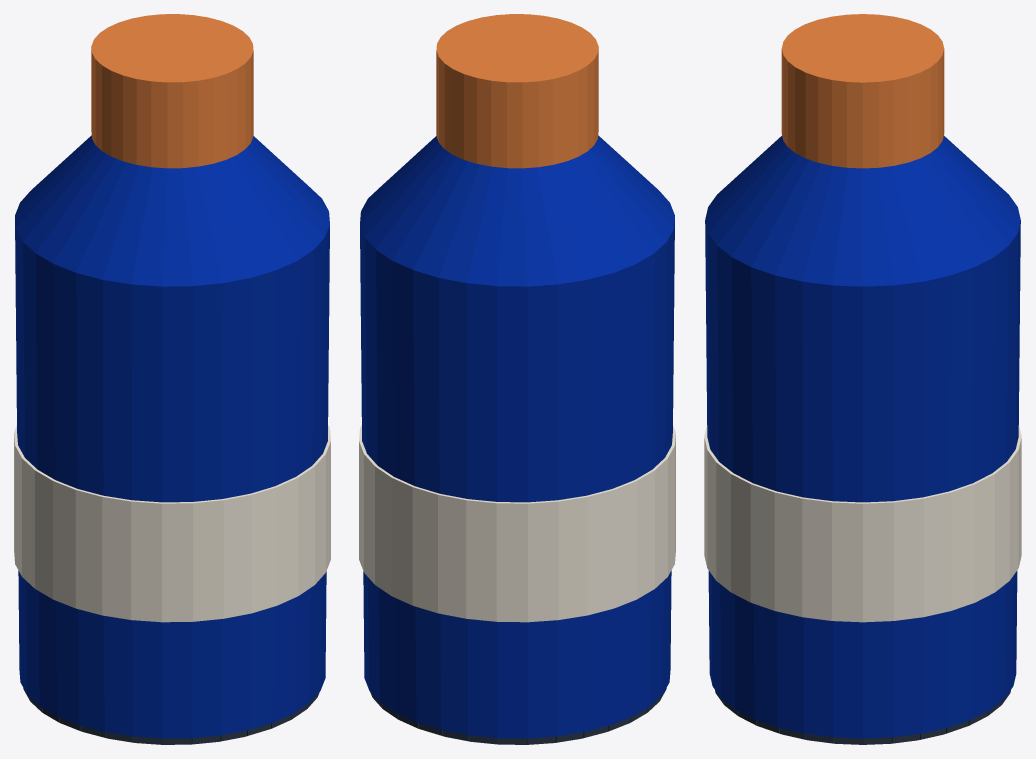
The model's file is bottle.glb.
3 views of the same model, side by side, from view 1: azimuth 30°, elevation 25°; view 2: azimuth 150°, elevation 25°; view 3: azimuth 270°, elevation 25° (orthographic).
Visible parts, largest first — view 1: bottle body, grip band, shoulder, bottle cap; view 2: bottle body, grip band, shoulder, bottle cap; view 3: bottle body, grip band, shoulder, bottle cap.
Part boxes in pixels (x1,y1,x2,y2): bottle body: (15, 219, 329, 738); grip band: (14, 425, 330, 622); shoulder: (15, 135, 329, 286); bottle cap: (91, 14, 253, 168); bottle body: (360, 219, 674, 738); grip band: (359, 425, 675, 622); shoulder: (360, 135, 674, 286); bottle cap: (436, 14, 598, 168); bottle body: (705, 220, 1020, 738); grip band: (704, 425, 1021, 622); shoulder: (705, 136, 1020, 286); bottle cap: (781, 14, 944, 168).
Bounding box in the file's own units: 0.704 × 1.55 × 0.704.
